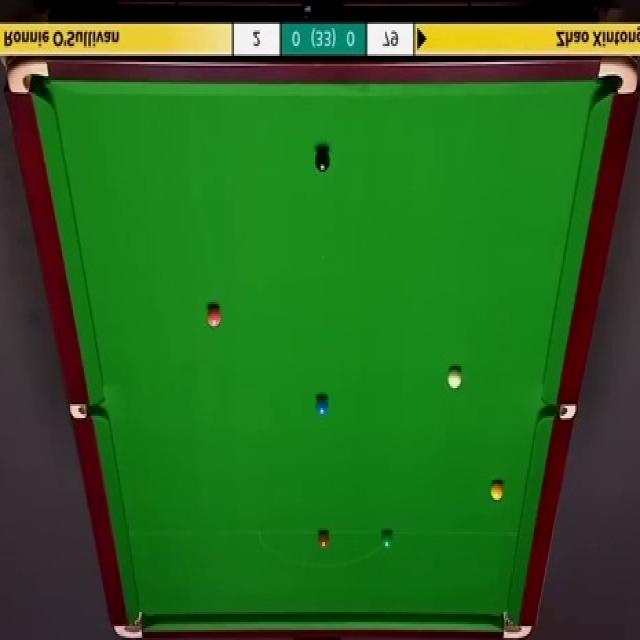pocket: (7, 58, 50, 98), (597, 57, 637, 98), (499, 608, 532, 640), (114, 612, 143, 638), (540, 403, 576, 422), (67, 402, 105, 418)
